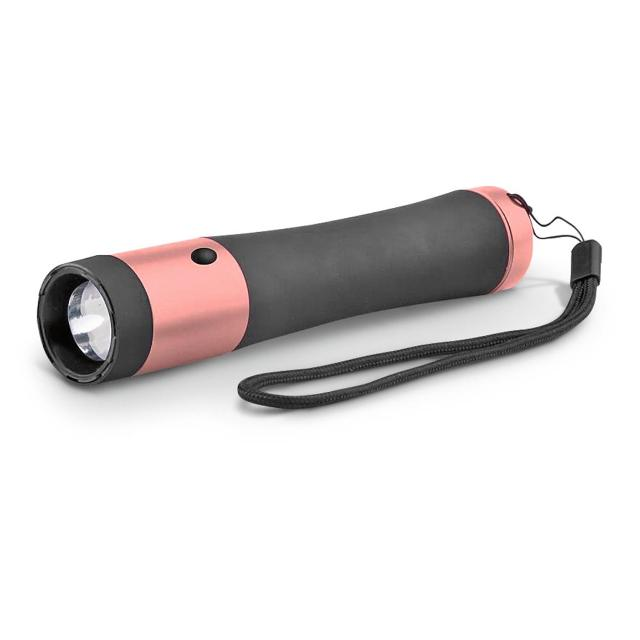Flashlight: (31, 180, 610, 420)
